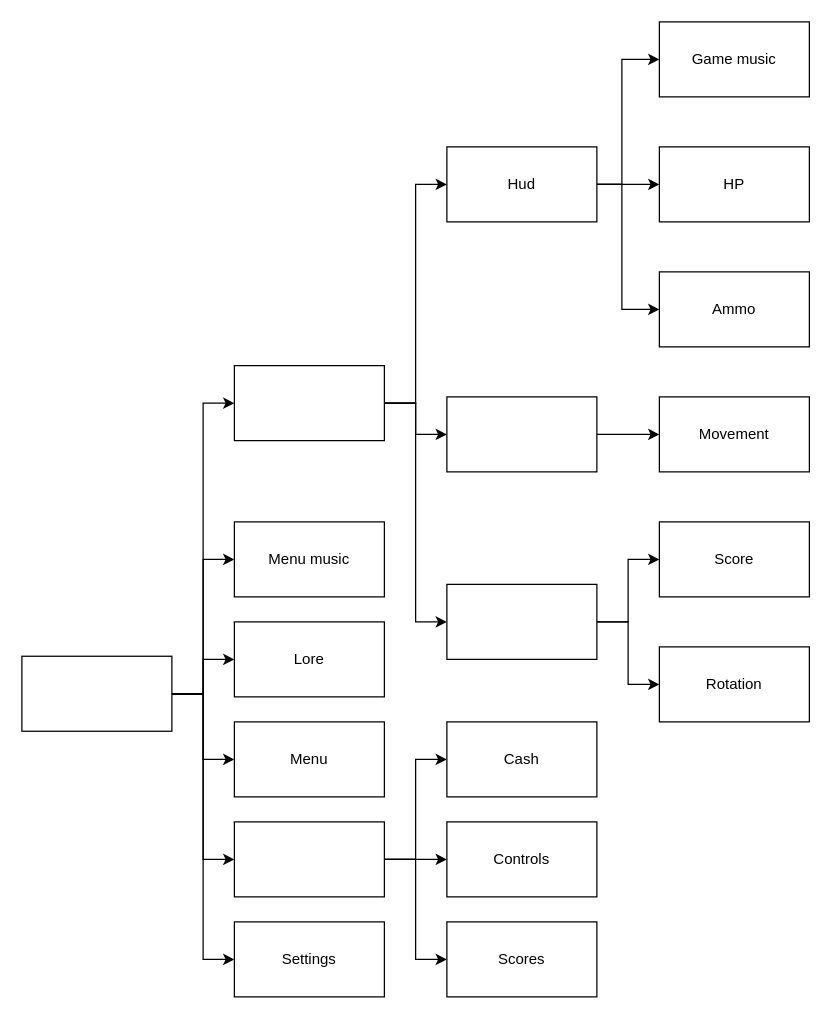
This 831x1019 diagram has some shape labels left out. Each missing label, with the centre of its shape:
Enemy: the point at 521,434
Game loop: the point at 308,402
Main: the point at 96,693
Player: the point at 521,621
User details: the point at 308,859
